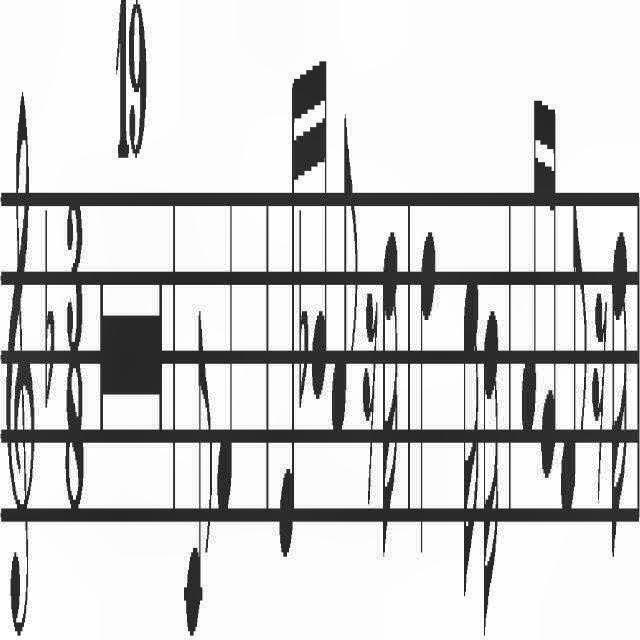Bass-clef: (6, 90, 34, 640)
Bemol: (44, 206, 56, 416), (299, 204, 309, 412)
Eighth-note: (183, 313, 213, 631), (560, 194, 588, 530), (331, 112, 359, 440)
Quarter-note: (217, 190, 235, 526), (420, 226, 436, 566)
Sixteenth-note: (278, 70, 298, 562), (520, 85, 540, 445), (539, 95, 557, 485), (311, 46, 329, 412), (610, 220, 628, 568), (381, 225, 399, 572), (462, 272, 480, 612), (483, 308, 501, 640)
